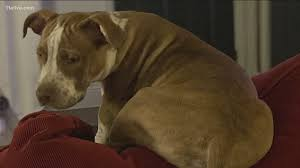dog: (13, 3, 174, 127)
